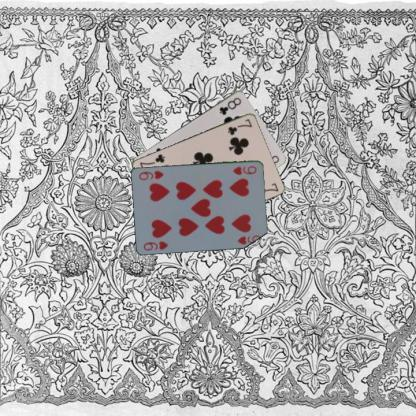7c: (225, 116, 253, 136)
8c: (216, 95, 242, 116)
9h: (141, 238, 170, 252), (230, 163, 258, 176)
